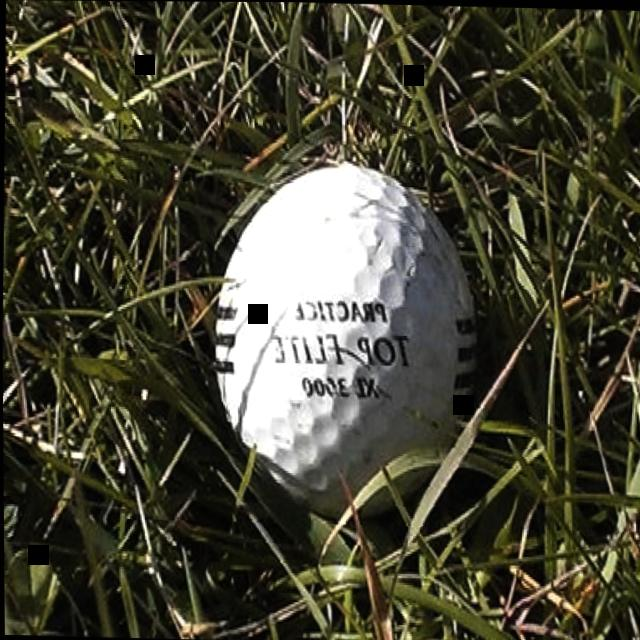golf ball: (206, 155, 487, 503)
